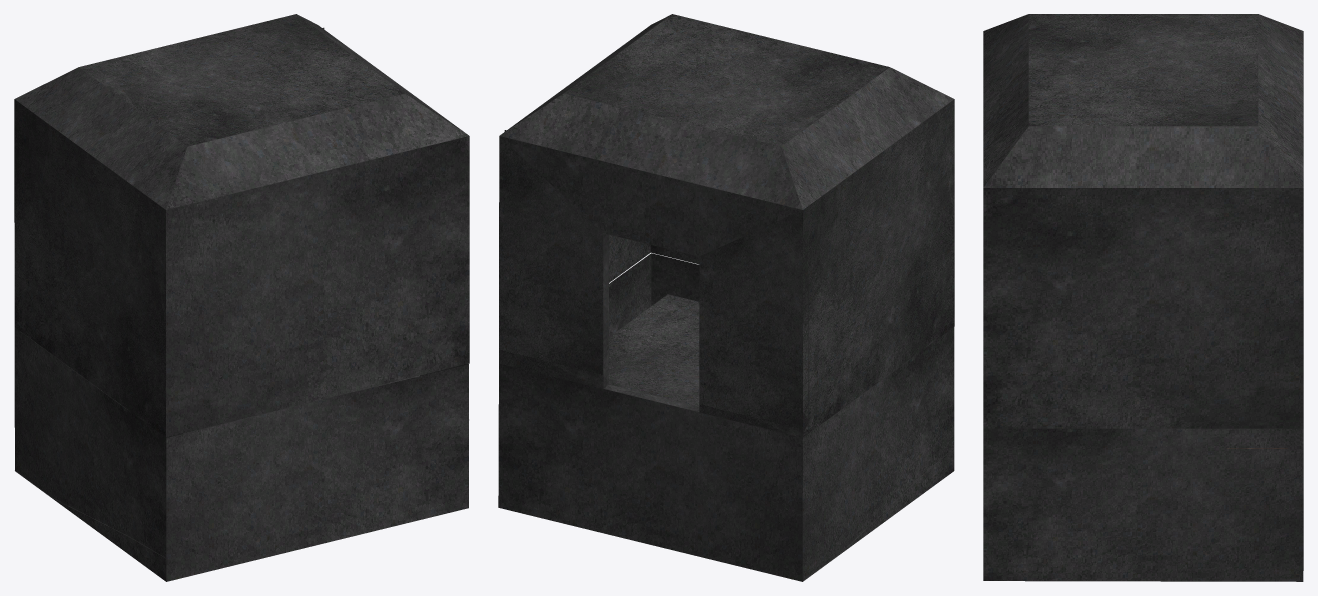
Rendered from Bunker.glb.
The picture shows the model from 3 angles, left to right: view 1: azimuth 30°, elevation 25°; view 2: azimuth 150°, elevation 25°; view 3: azimuth 270°, elevation 25°; orthographic projection. The views are drawn at different scales.
Visible parts, largest first — view 1: Bunker; view 2: Bunker; view 3: Bunker.
Part boxes in pixels (x1,y1,x2,y2): Bunker: (14,14,469,581); Bunker: (498,14,954,581); Bunker: (983,14,1303,581).
Bounding box in the file's own units: 9.5 × 12.2 × 8.19.
2 materials, 2 textured.
